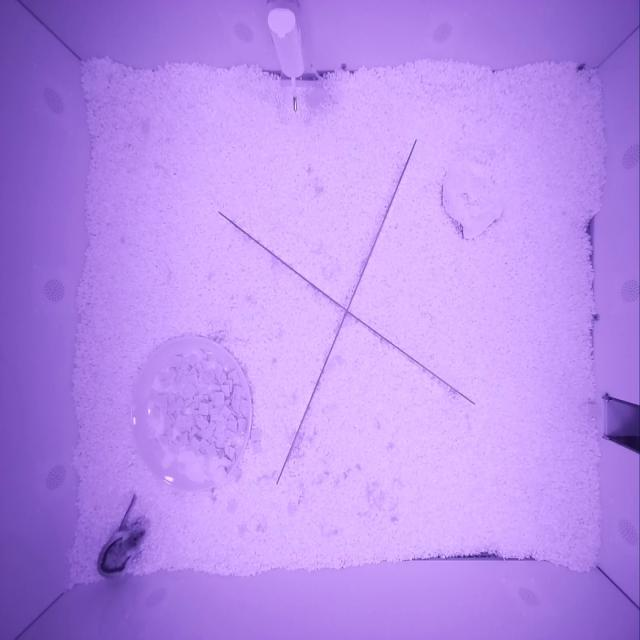adult_front: (96, 523, 146, 577)
